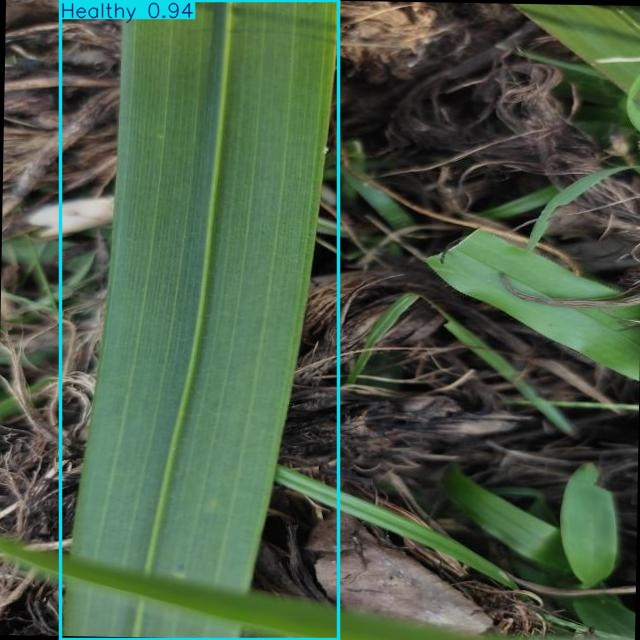Healthy: (61, 0, 339, 640)
